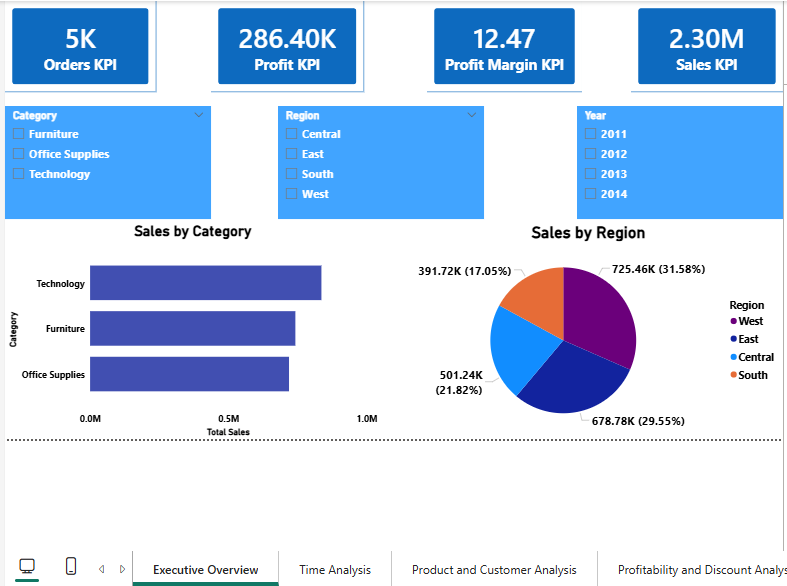

The page's visual inventory and layout, read from the dashboard file:
{"tool":"powerbi","page":{"name":"Executive Overview","canvas":[1280,720],"ordinal":0},"visuals":[{"type":"cardVisual","fields":{"Data":["Retail.Orders KPI"]},"box":[0,0,248.6,149.5],"z":0},{"type":"cardVisual","fields":{"Data":["Retail.Profit KPI"]},"box":[339.3,0,252,149.5],"z":1000},{"type":"cardVisual","fields":{"Data":["Retail.Profit Margin KPI"]},"box":[693.8,0,255.3,149.5],"z":2000},{"type":"cardVisual","fields":{"Data":["Retail.Sales KPI"]},"box":[1029.7,0,250.3,149.5],"z":3000},{"type":"clusteredBarChart","title":"Sales by Category","fields":{"Category":["Retail.Category"],"Y":["Sum(Retail.Sales)"]},"box":[0,364.5,618.2,356.1],"z":4000},{"type":"pieChart","title":"Sales by Region","fields":{"Category":["Retail.Region"],"Y":["Sum(Retail.Sales)"]},"box":[640,364.5,640,356.1],"z":5000},{"type":"slicer","fields":{"Values":["Retail.Category"]},"box":[0,173,339.3,186.5],"z":5001},{"type":"slicer","fields":{"Values":["Retail.Region"]},"box":[448.5,173,339.3,186.5],"z":5002},{"type":"slicer","fields":{"Values":["Retail.Year"]},"box":[940.7,173,339.3,186.5],"z":5003}]}

Visuals, with their boxes on the page's 1280x720 design canvas (x1, y1, x2, y2). These are canvas units, not pixel positions in the 787x586 screenshot, which may show the page scaled, cropped or inside an application window:
cardVisual - Retail.Orders KPI: {"x1": 0, "y1": 0, "x2": 249, "y2": 150}
cardVisual - Retail.Profit KPI: {"x1": 339, "y1": 0, "x2": 591, "y2": 150}
cardVisual - Retail.Profit Margin KPI: {"x1": 694, "y1": 0, "x2": 949, "y2": 150}
cardVisual - Retail.Sales KPI: {"x1": 1030, "y1": 0, "x2": 1280, "y2": 150}
"Sales by Category" clusteredBarChart: {"x1": 0, "y1": 364, "x2": 618, "y2": 721}
"Sales by Region" pieChart: {"x1": 640, "y1": 364, "x2": 1280, "y2": 721}
slicer - Retail.Category: {"x1": 0, "y1": 173, "x2": 339, "y2": 360}
slicer - Retail.Region: {"x1": 448, "y1": 173, "x2": 788, "y2": 360}
slicer - Retail.Year: {"x1": 941, "y1": 173, "x2": 1280, "y2": 360}
